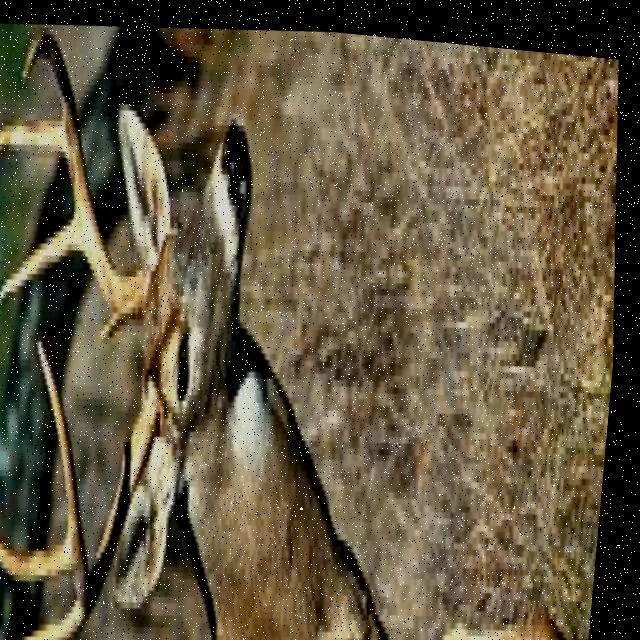L-F: (43, 333, 171, 614)
L-G1: (28, 598, 97, 640)
L-G2: (0, 521, 82, 579)
R-F: (23, 25, 157, 324)
R-G1: (101, 307, 130, 341)
R-G2: (1, 207, 87, 306)
R-G3: (0, 116, 68, 156)
